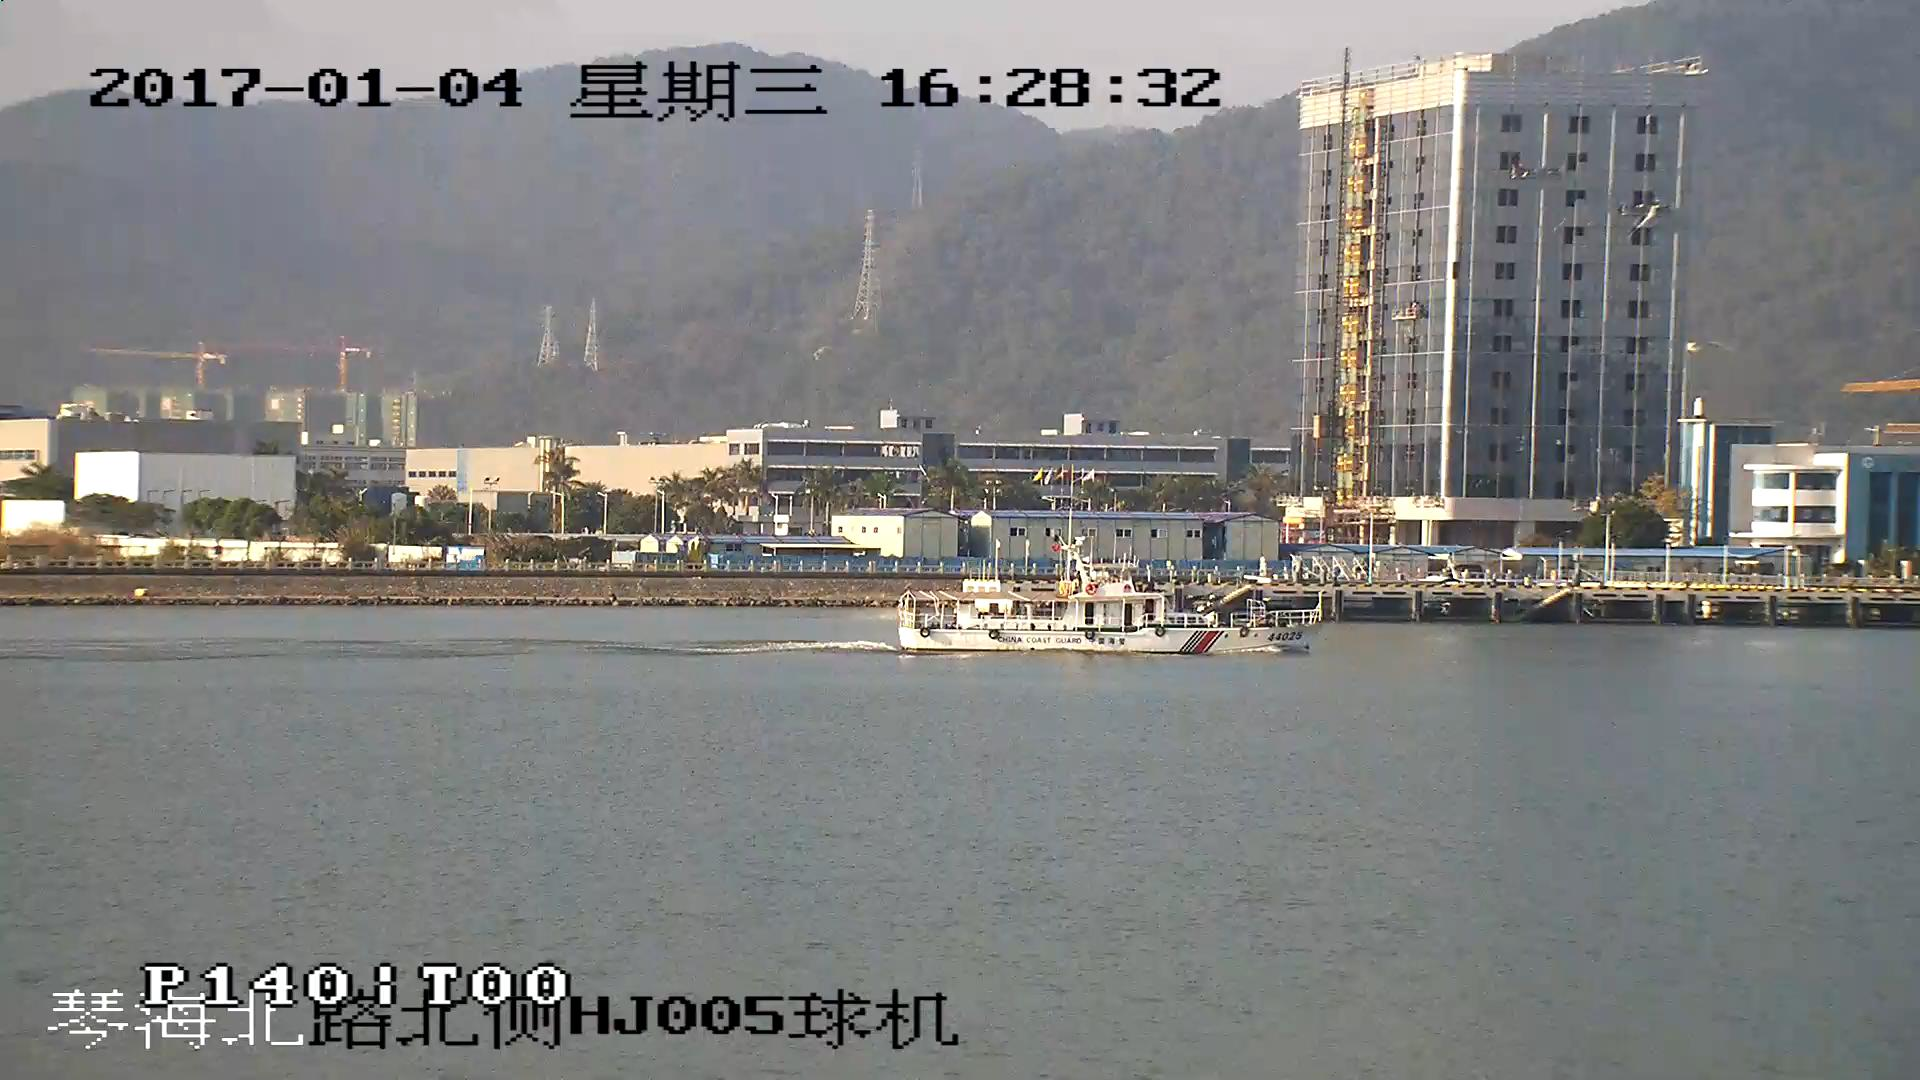passenger ship: (898, 542, 1322, 654)
